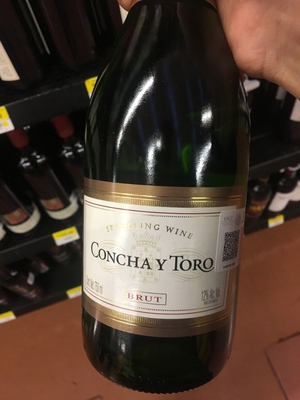brut: (76, 1, 266, 377)
